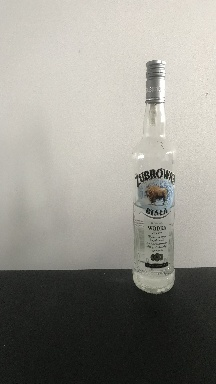butelka: (130, 57, 176, 297)
